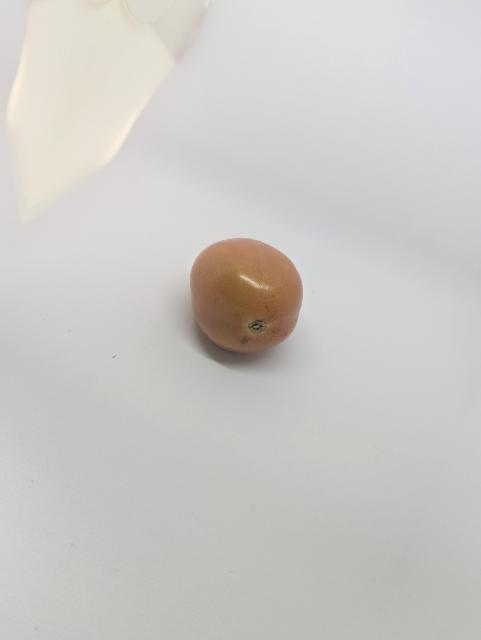turning: (186, 234, 324, 361)
